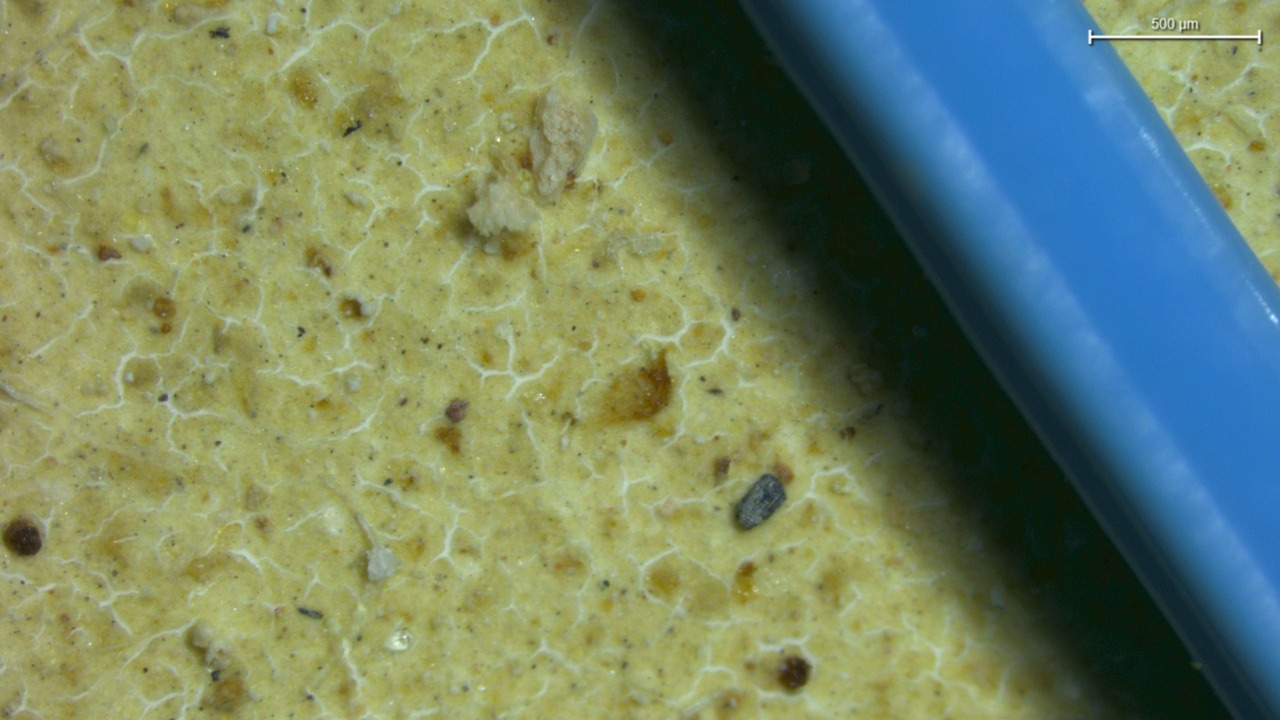microplastic_fragment: (530, 85, 598, 200), (467, 179, 539, 239), (367, 546, 401, 581)
